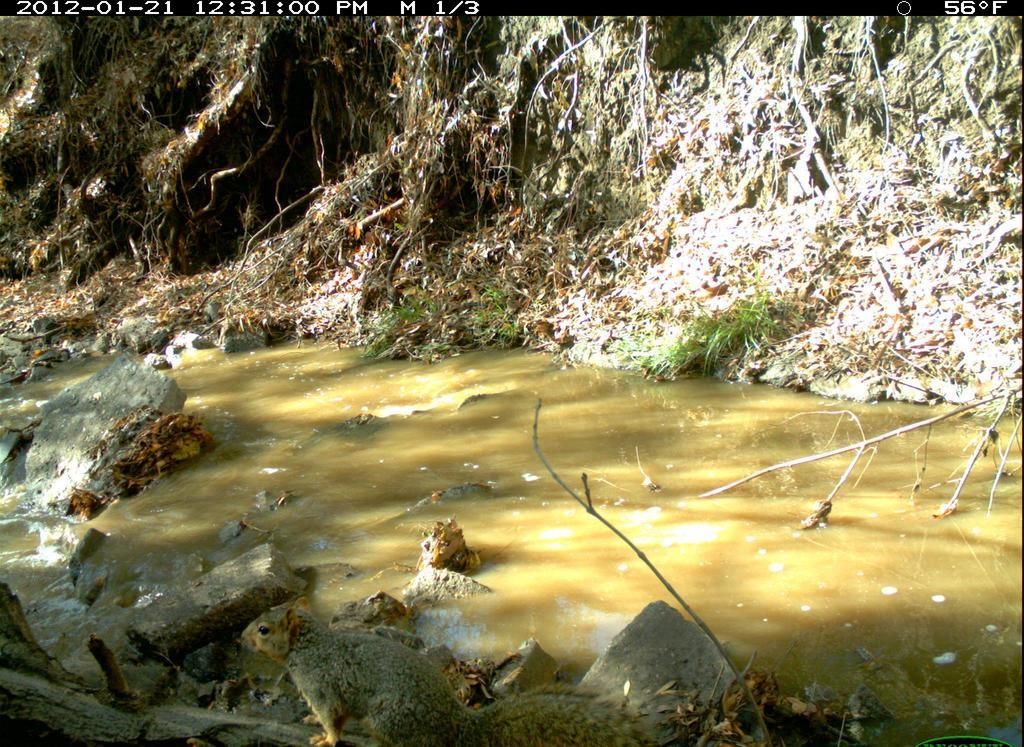squirrel: (239, 594, 670, 747)
